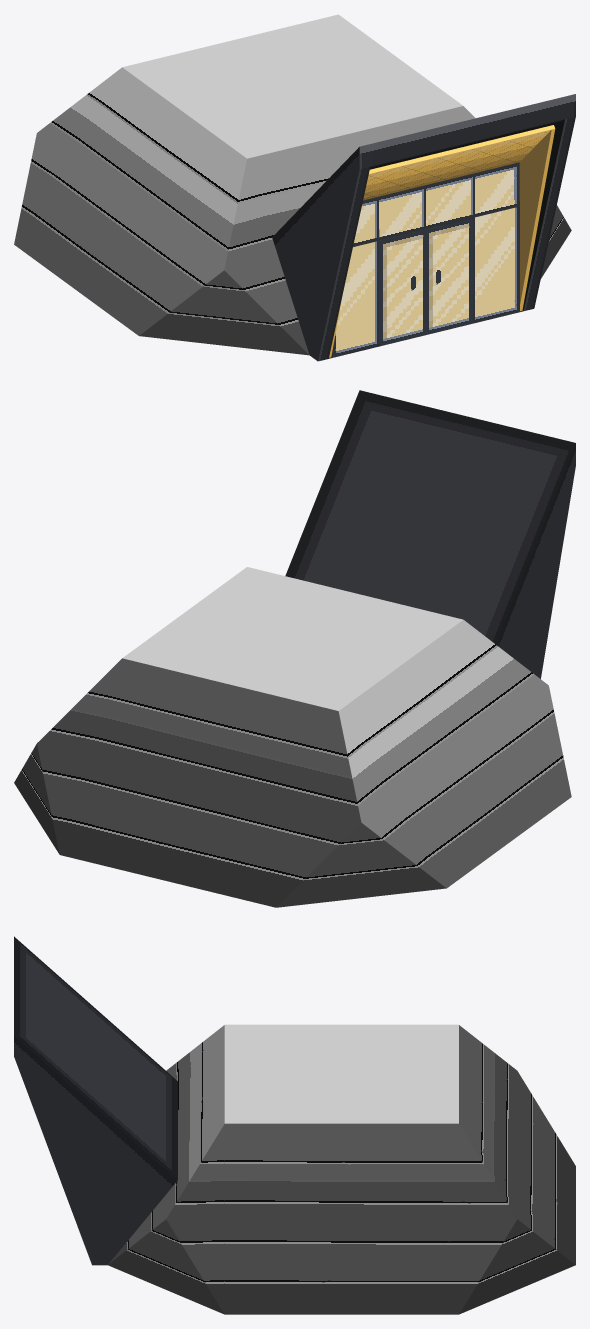
Rendered from clancy.glb.
3 views of the same model, one above another, from view 1: azimuth 30°, elevation 25°; view 2: azimuth 150°, elevation 25°; view 3: azimuth 270°, elevation 25° (orthographic). The views are drawn at different scales.
Parts seen in each view (by area): view 1: Cube, Cube.001, Plane; view 2: Cube, Cube.001; view 3: Cube, Cube.001.
Boxes of the visible parts, x1,y1,x2,y2 form: Cube: (14, 14, 571, 355); Cube.001: (272, 94, 575, 361); Plane: (379, 218, 472, 346); Cube: (14, 567, 571, 907); Cube.001: (285, 390, 575, 678); Cube: (108, 1024, 575, 1314); Cube.001: (14, 936, 177, 1265).
Size of the model in its own units: 6 by 3.25 by 7.2.
Materials: 4 (4 with a texture image).
